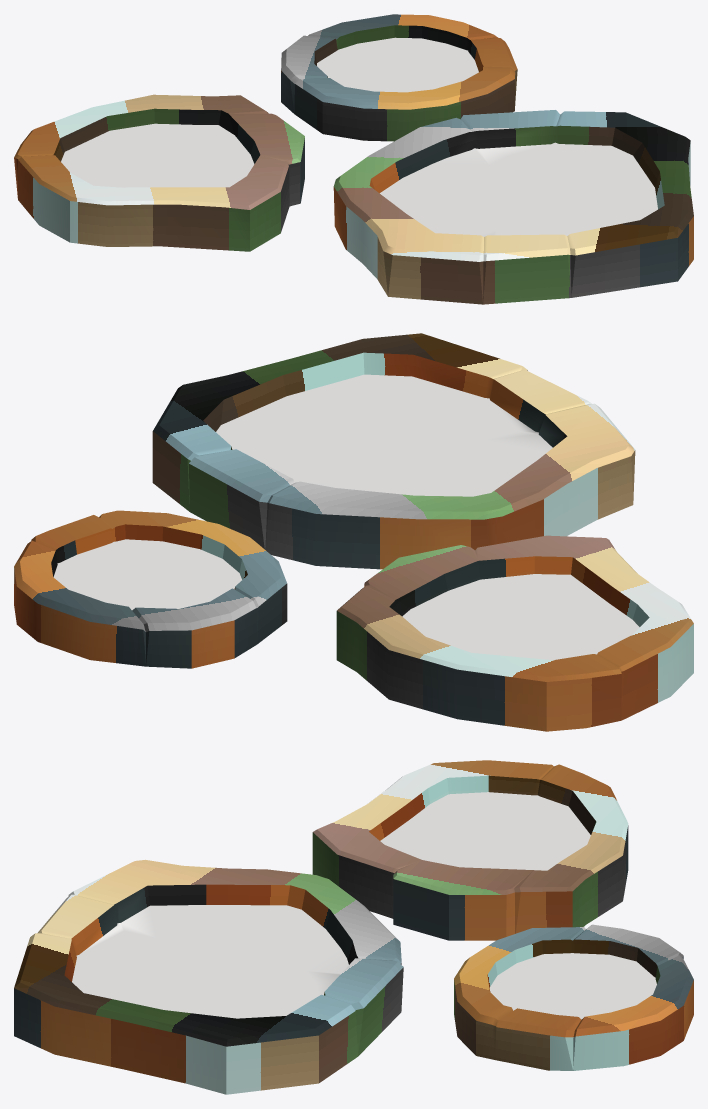
File: P_AP22WallPaintingSet.glb
3 renders of one model, top to bottom at view 1: azimuth 30°, elevation 25°; view 2: azimuth 150°, elevation 25°; view 3: azimuth 270°, elevation 25°, orthographic. The views are drawn at different scales.
Parts seen in each view (by area): view 1: P_AP22WallPaintingSet; view 2: P_AP22WallPaintingSet; view 3: P_AP22WallPaintingSet.
Part boxes in pixels (x1,y1,x2,y2): P_AP22WallPaintingSet: [14, 14, 693, 304]; P_AP22WallPaintingSet: [14, 333, 693, 731]; P_AP22WallPaintingSet: [14, 760, 693, 1094].
Size of the model in its own units: 1.01 by 0.087 by 1.01.
Materials: 1 (1 with a texture image).
